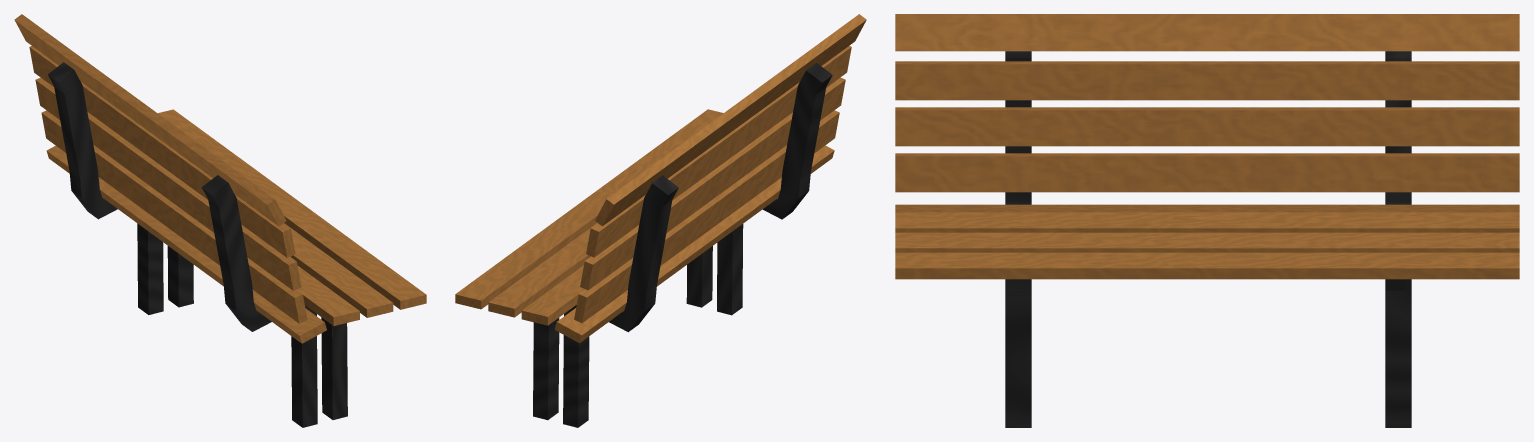
The model's file is bench.fbx.
3 views of the same model, side by side, from view 1: azimuth 30°, elevation 25°; view 2: azimuth 150°, elevation 25°; view 3: azimuth 270°, elevation 25° (orthographic). The views are drawn at different scales.
Visible parts, largest first — view 1: Bench; view 2: Bench; view 3: Bench.
Boxes of the visible parts, left/top/right/bottom form: Bench: left=14, top=14, right=426, bottom=427; Bench: left=455, top=14, right=866, bottom=427; Bench: left=895, top=14, right=1519, bottom=427.
Size of the model in its own units: 9.05 by 14.22 by 23.39.
